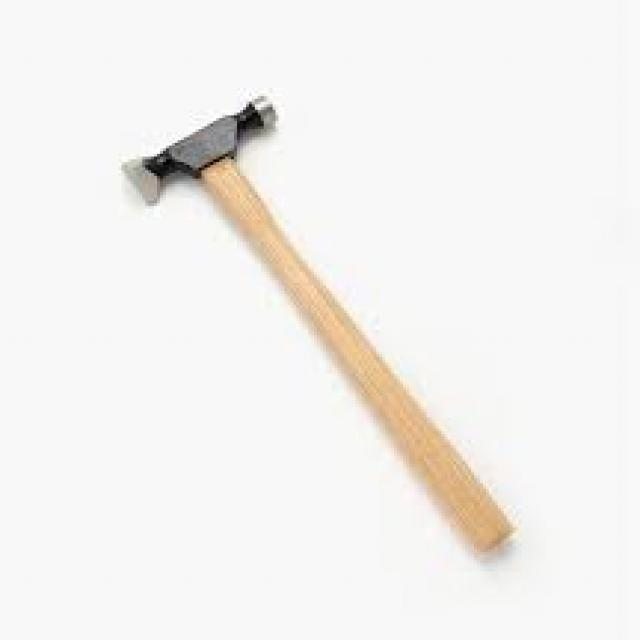hammer: (111, 83, 529, 566)
